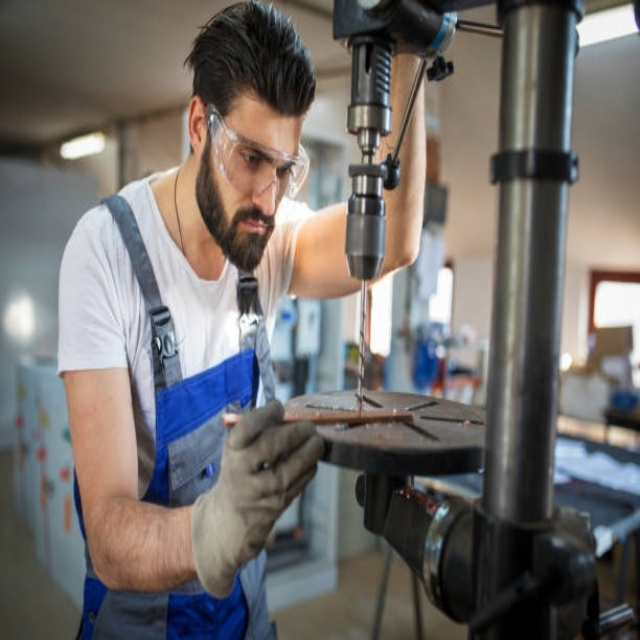Gafas: (207, 106, 308, 203)
Guantes: (192, 399, 326, 598)
Sin_mascara: (216, 213, 280, 270)
